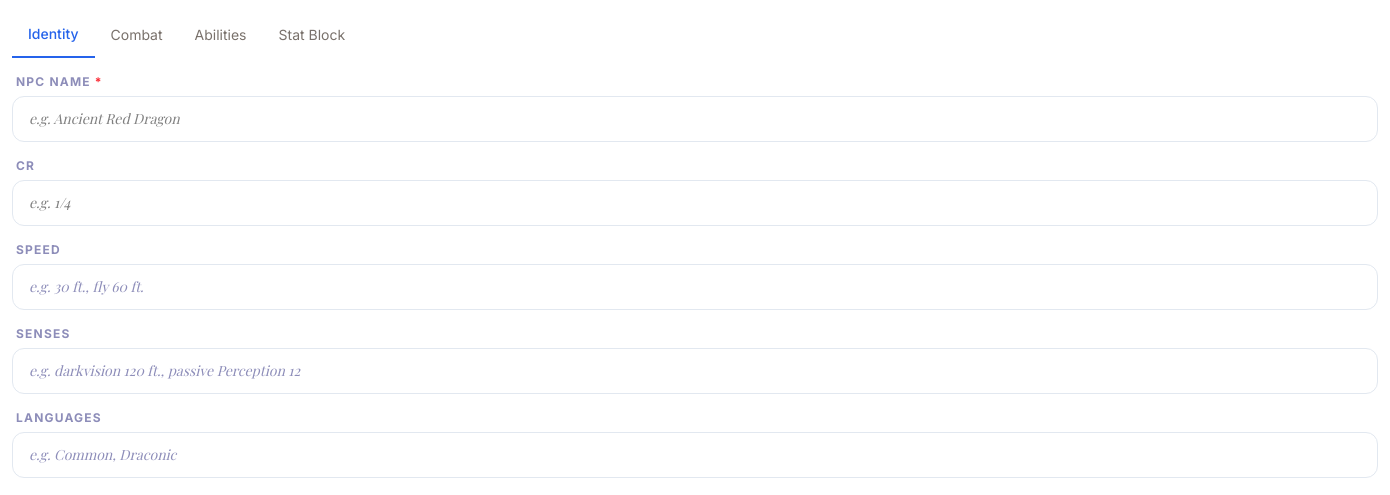
Test: NpcFormFields › renders all essential fields
The width and height of the screenshot is (1390, 495).
Expected: the field labelled "NPC Name *" is shown, [12,96,1378,142]
Expected: the field labelled "CR" is shown, [12,180,1378,226]
What coordinates should you click on to do the following:
click the tab "Combat"
I would click on:
 (136, 35)
Its box is [94,12,178,58].
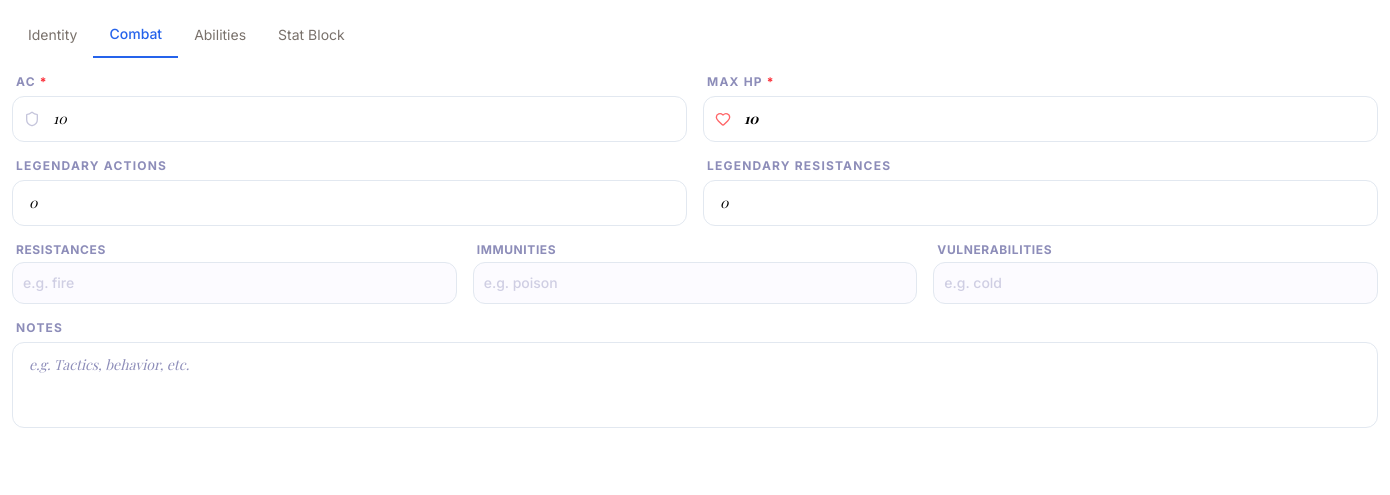
Result: the number field labelled "AC *" is shown at [12,96,687,142]
Result: the number field labelled "Max HP *" is shown at [703,96,1378,142]
